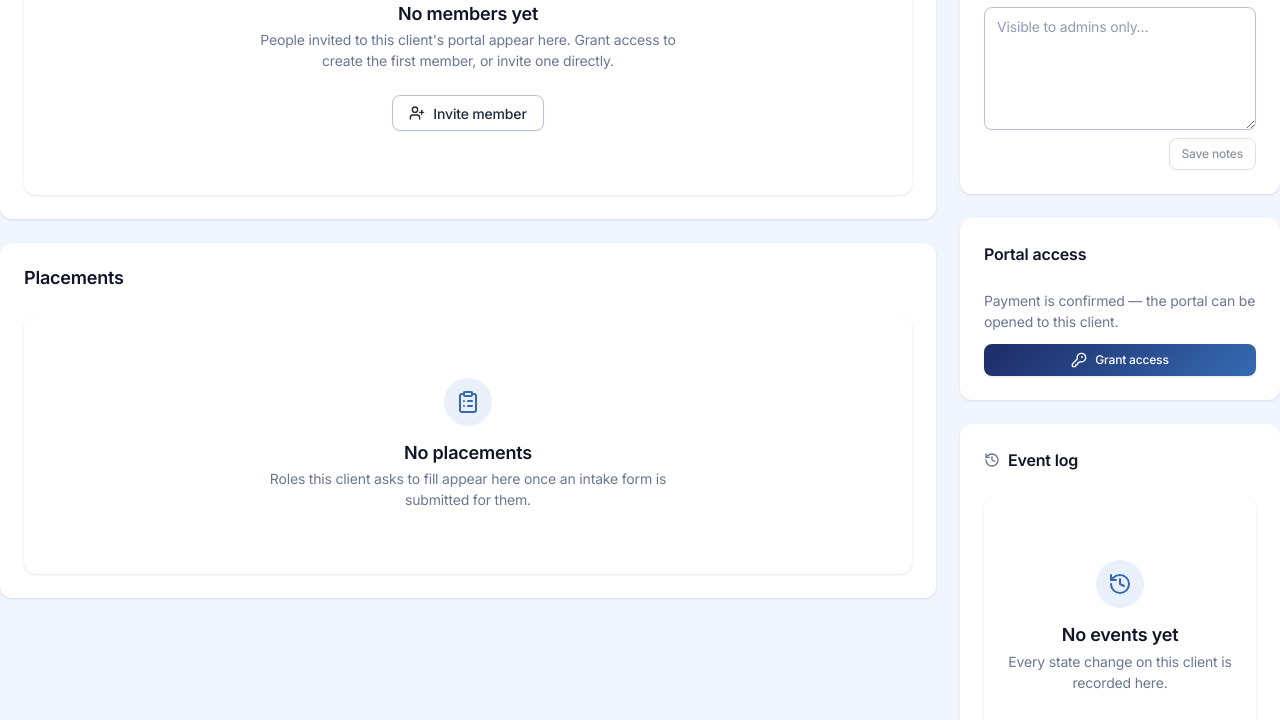
Test: grant access › submits when payment is confirmed and surfaces a 422 race
(page scrolled)
Step 1. Click the button "Grant access" → click(1120, 360), box [984,344,1256,376]
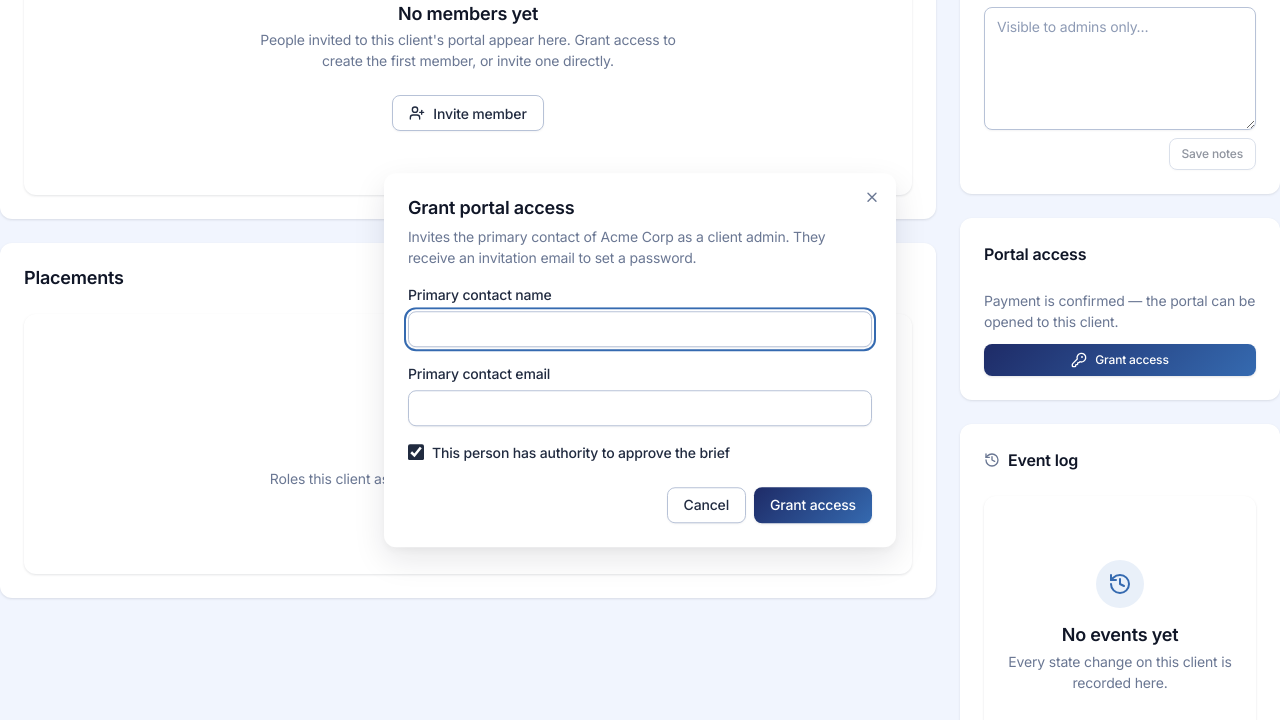
Step 2. Type "Jane Principal" into the field labelled "Primary contact name" → (640, 329), box [408,311,872,347]
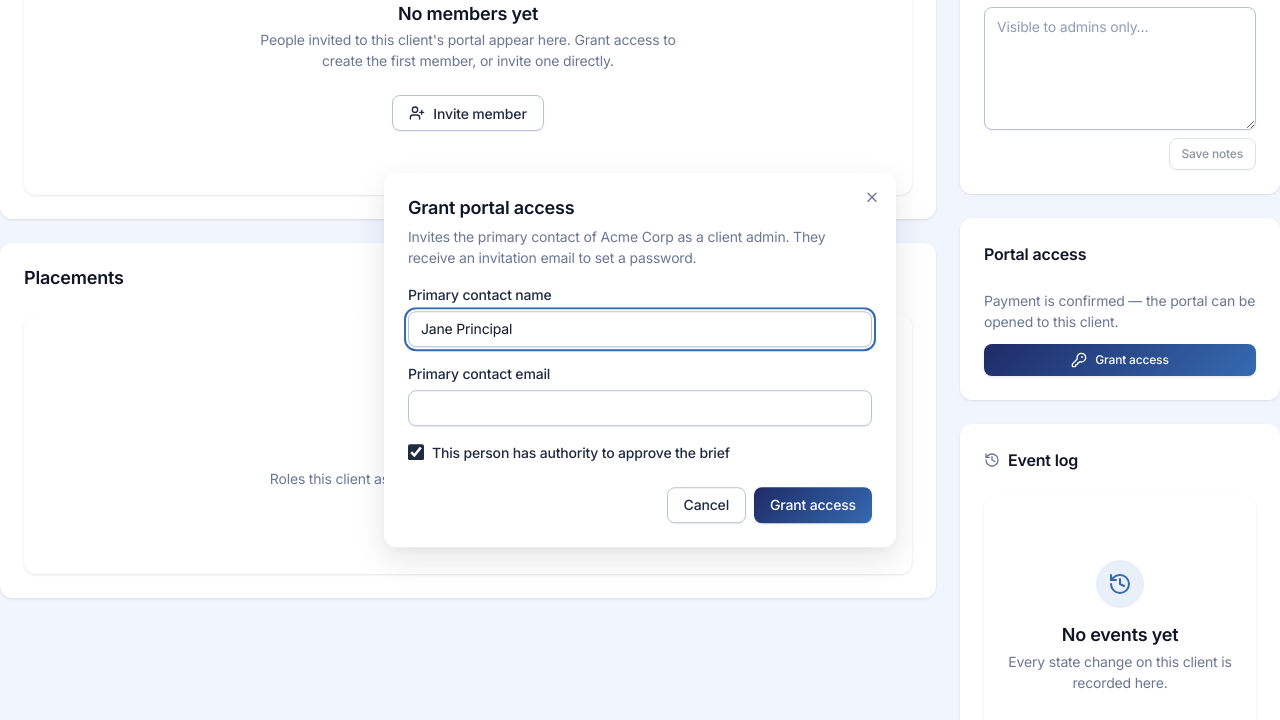
Step 3. Type "jane@acme.test" into the field labelled "Primary contact email" → (640, 408), box [408,390,872,426]
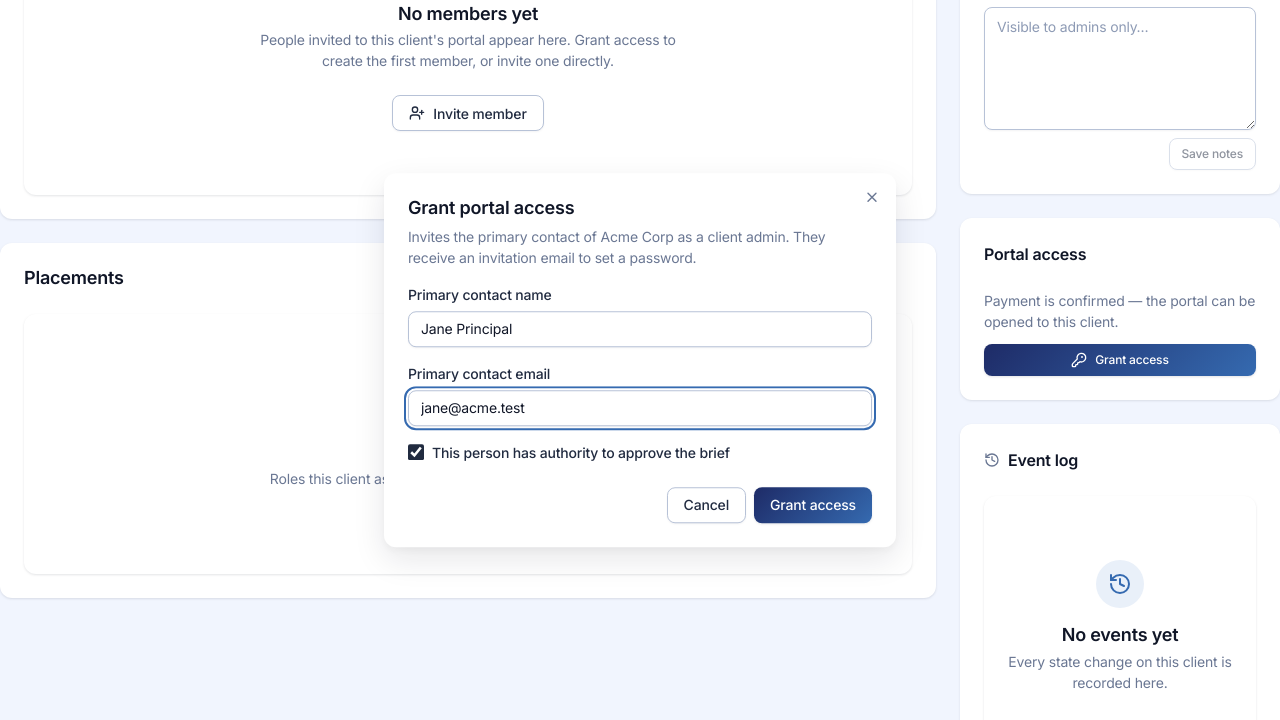
Expected: the button "Grant access" is enabled
Step 4. Click the button "Grant access" → click(813, 505), box [754,487,872,523]
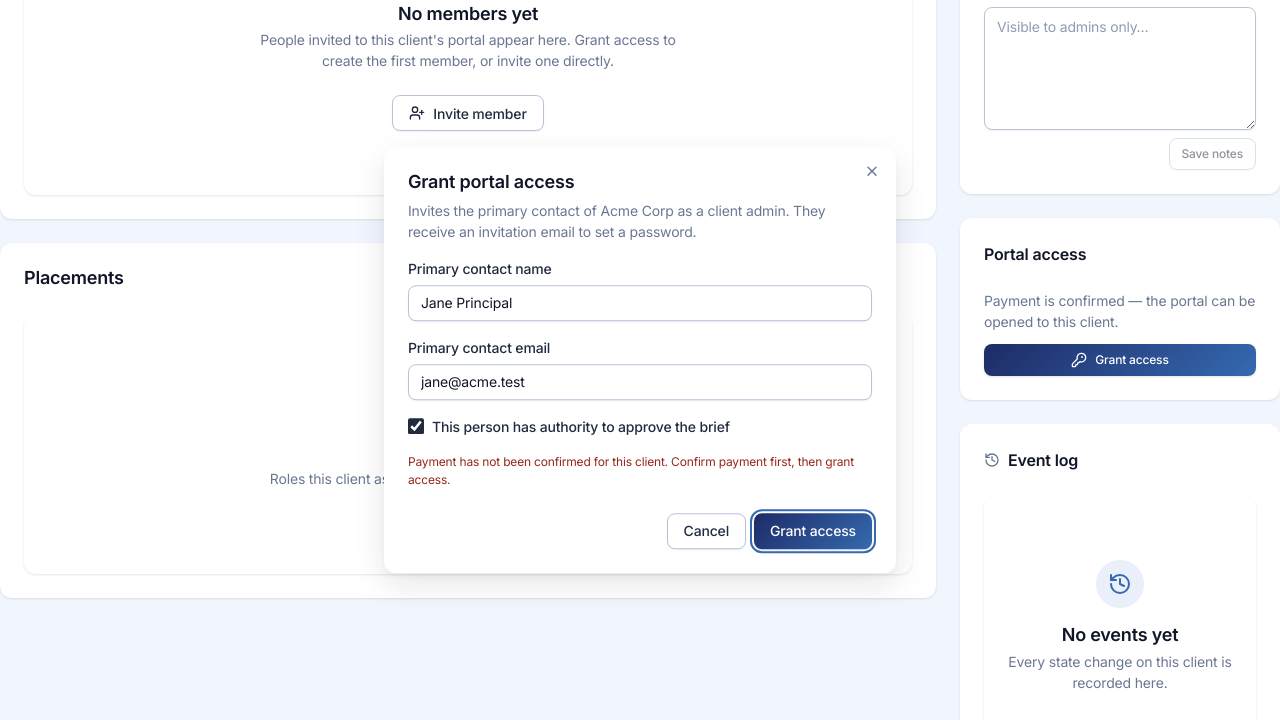
Expected: the text "Payment has not been confirmed for this client" is shown, [408,454,854,487]
